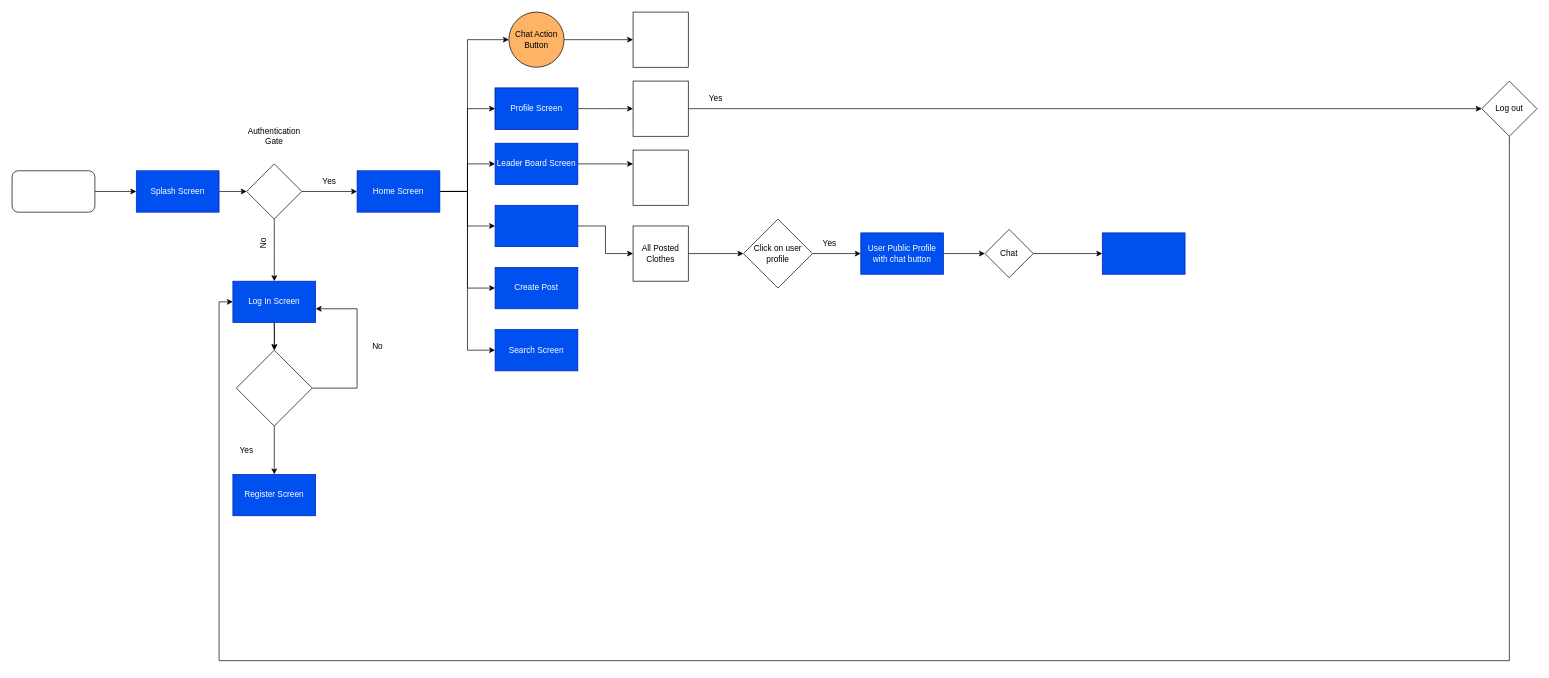
This 1549x678 diagram has some shape labels left out. Here are the shapes that lost their labels. From the top down, the box of each, then its label:
(632, 11, 688, 67): List Of Chats
(632, 80, 688, 136): User Profile Data and Logout button
(11, 170, 95, 212): Start
(246, 163, 302, 219): Logged In?
(632, 149, 688, 205): Top Donors
(494, 205, 578, 247): Explore Screen
(1102, 232, 1185, 274): Chat screen with this user
(236, 349, 312, 426): Don't have an account?
